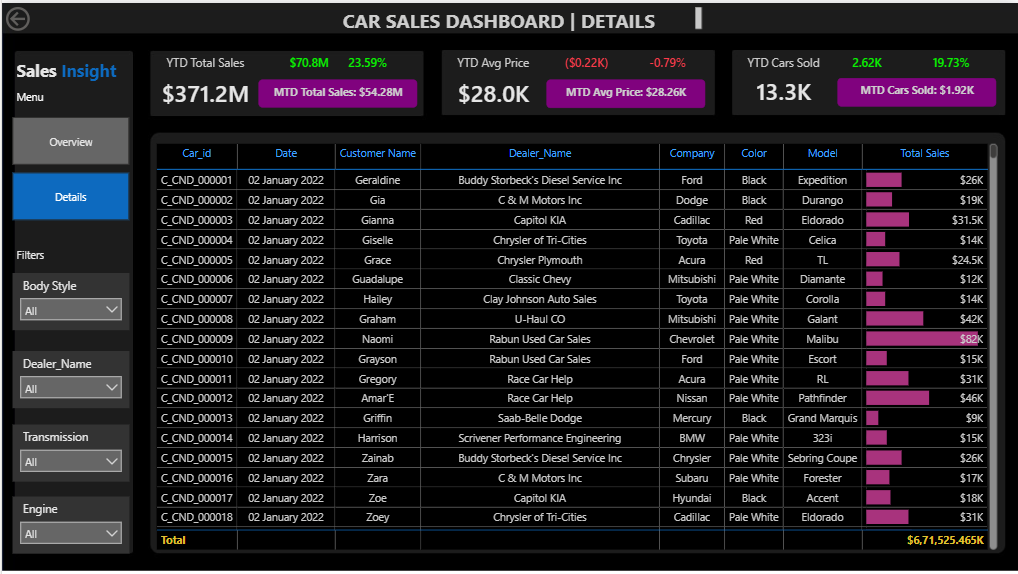

The dashboard page shown, as its layout file describes it:
{"tool":"powerbi","page":{"name":"Details","canvas":[1280,720],"ordinal":1},"visuals":[{"type":"card","title":"YTD Total Sales","fields":{"Values":["car_data.YTD Total Sales"]},"box":[189,64.3,134.2,79.4],"z":0},{"type":"card","fields":{"Values":["car_data.Sales Difference"]},"box":[323.2,58.6,126.6,37.8],"z":1000},{"type":"card","fields":{"Values":["car_data.YOY Sales Growth"]},"box":[396.9,58.6,126.6,37.8],"z":2000},{"type":"card","fields":{"Values":["car_data.MTD KPI"]},"box":[323.2,96.4,200.3,35],"z":3000},{"type":"card","title":"YTD Avg Price","fields":{"Values":["car_data.YTD Avg Price"]},"box":[551.8,64.3,134.2,79.4],"z":4000},{"type":"card","fields":{"Values":["car_data.Avg Price Diff"]},"box":[672.8,58.6,126.6,37.8],"z":5000},{"type":"card","fields":{"Values":["car_data.YOY Avg Price Growth"]},"box":[774.8,58.6,126.6,37.8],"z":6000},{"type":"card","fields":{"Values":["car_data.MTD Avg Price KPI"]},"box":[686,96.4,200.3,35.9],"z":7000},{"type":"card","title":"YTD Cars Sold","fields":{"Values":["car_data.YTD Cars Sold"]},"box":[924.1,64.3,120.9,73.7],"z":8000},{"type":"card","fields":{"Values":["car_data.Car Sold Diff"]},"box":[1026.1,58.6,126.6,37.8],"z":9000},{"type":"card","fields":{"Values":["car_data.YOY Car Sold Growth"]},"box":[1132,58.6,126.6,37.8],"z":10000},{"type":"card","fields":{"Values":["car_data.MTD Car Sold KPI"]},"box":[1052.6,94.5,200.3,35.9],"z":11000},{"type":"actionButton","box":[0,0,100,40],"z":12000},{"type":"textbox","box":[374.2,0,512.1,39.7],"z":13000},{"type":"slicer","fields":{"Values":["car_data.Body Style"]},"box":[13.2,340.2,147.4,71.8],"z":14000},{"type":"slicer","fields":{"Values":["car_data.Dealer_Name"]},"box":[13.2,438.4,147.4,71.8],"z":15000},{"type":"slicer","fields":{"Values":["car_data.Transmission"]},"box":[13.2,531,147.4,71.8],"z":16000},{"type":"slicer","fields":{"Values":["car_data.Engine"]},"box":[13.2,621.7,147.4,71.8],"z":17000},{"type":"textbox","box":[13.2,302.4,100.2,37.8],"z":18000},{"type":"tableEx","fields":{"Values":["car_data.Car_id","car_data.Date","car_data.Customer Name","car_data.Dealer_Name","car_data.Company","car_data.Color","car_data.Model","Sum(car_data.Price ($))"]},"box":[189,172,1069.6,521.6],"z":19000},{"type":"textbox","box":[13.2,64.3,149.3,43.5],"z":20000},{"type":"textbox","box":[13.2,103.9,100.2,41.6],"z":21000},{"type":"pageNavigator","box":[13.2,143.6,147.4,130.4],"z":22000}]}

Visuals, with their boxes in screenshot pixels (x1, y1, x2, y2), scaled from the page's 1280x720 canvas onto the 1018x574 screenshot:
"YTD Total Sales" card: {"left": 150, "top": 51, "right": 257, "bottom": 115}
card - car_data.Sales Difference: {"left": 257, "top": 47, "right": 358, "bottom": 77}
card - car_data.YOY Sales Growth: {"left": 316, "top": 47, "right": 416, "bottom": 77}
card - car_data.MTD KPI: {"left": 257, "top": 77, "right": 416, "bottom": 105}
"YTD Avg Price" card: {"left": 439, "top": 51, "right": 546, "bottom": 115}
card - car_data.Avg Price Diff: {"left": 535, "top": 47, "right": 636, "bottom": 77}
card - car_data.YOY Avg Price Growth: {"left": 616, "top": 47, "right": 717, "bottom": 77}
card - car_data.MTD Avg Price KPI: {"left": 546, "top": 77, "right": 705, "bottom": 105}
"YTD Cars Sold" card: {"left": 735, "top": 51, "right": 831, "bottom": 110}
card - car_data.Car Sold Diff: {"left": 816, "top": 47, "right": 917, "bottom": 77}
card - car_data.YOY Car Sold Growth: {"left": 900, "top": 47, "right": 1001, "bottom": 77}
card - car_data.MTD Car Sold KPI: {"left": 837, "top": 75, "right": 996, "bottom": 104}
actionButton: {"left": 0, "top": 0, "right": 80, "bottom": 32}
textbox: {"left": 298, "top": 0, "right": 705, "bottom": 32}
slicer - car_data.Body Style: {"left": 10, "top": 271, "right": 128, "bottom": 328}
slicer - car_data.Dealer_Name: {"left": 10, "top": 350, "right": 128, "bottom": 407}
slicer - car_data.Transmission: {"left": 10, "top": 423, "right": 128, "bottom": 481}
slicer - car_data.Engine: {"left": 10, "top": 496, "right": 128, "bottom": 553}
textbox: {"left": 10, "top": 241, "right": 90, "bottom": 271}
tableEx - car_data.Car_id x car_data.Date: {"left": 150, "top": 137, "right": 1001, "bottom": 553}
textbox: {"left": 10, "top": 51, "right": 129, "bottom": 86}
textbox: {"left": 10, "top": 83, "right": 90, "bottom": 116}
pageNavigator: {"left": 10, "top": 114, "right": 128, "bottom": 218}
